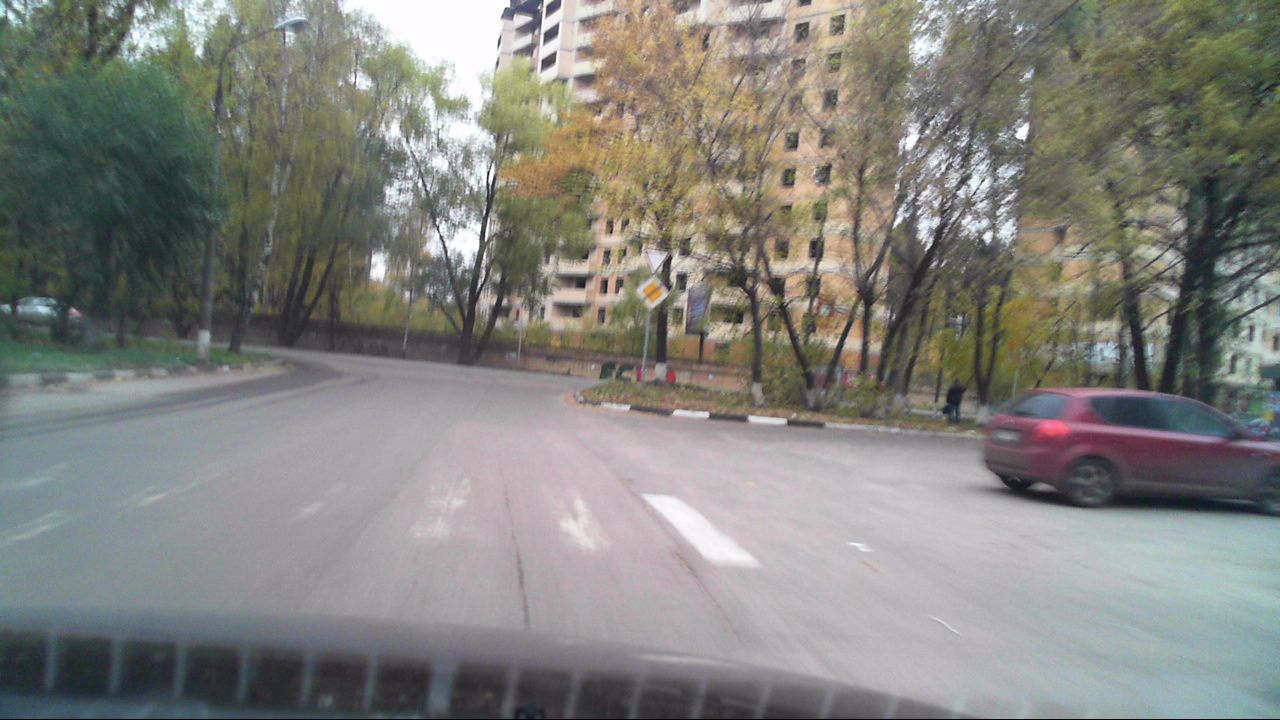main road: (635, 276, 668, 311)
